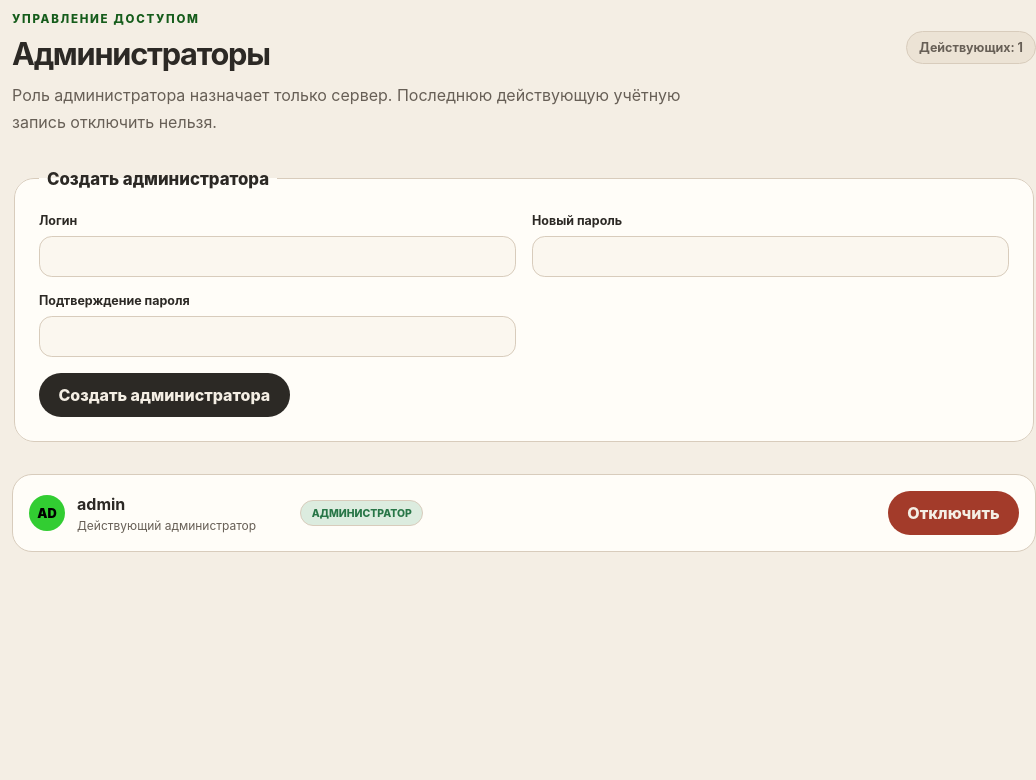
Test: administrator management › lists active administrators and creates one without client-owned roles
Expected: the heading "Администраторы" is shown, [12,38,270,70]
Expected: the text "Действующих: 1" is shown, [906,31,1035,64]
In the field labelled "Логин": (278, 256) [39,236,516,277], type "second-admin"
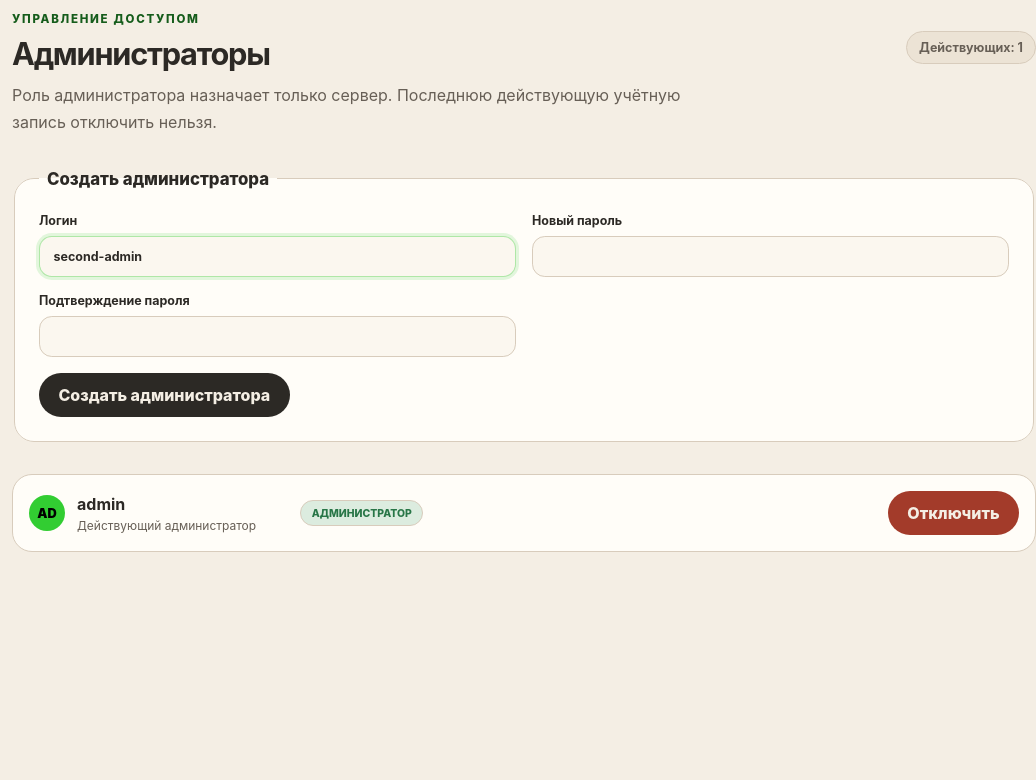
In the password field labelled "Новый пароль": (770, 256) [532,236,1009,277], type "safe-admin-password"
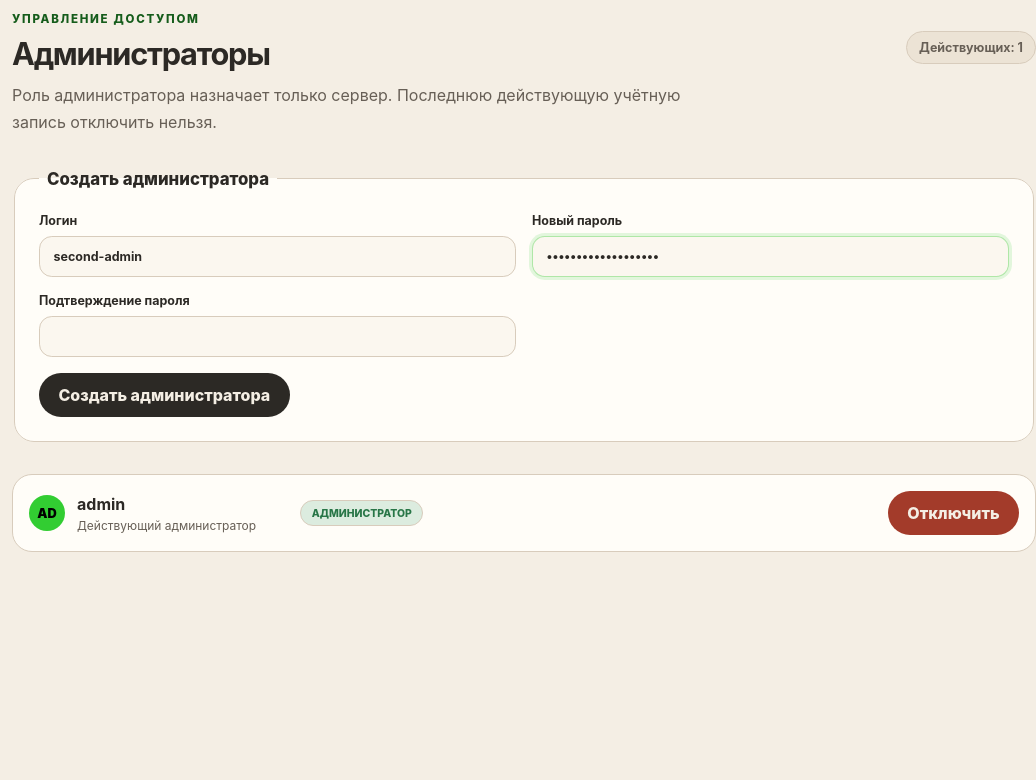
In the password field labelled "Подтверждение пароля": (278, 336) [39,316,516,357], type "safe-admin-password"
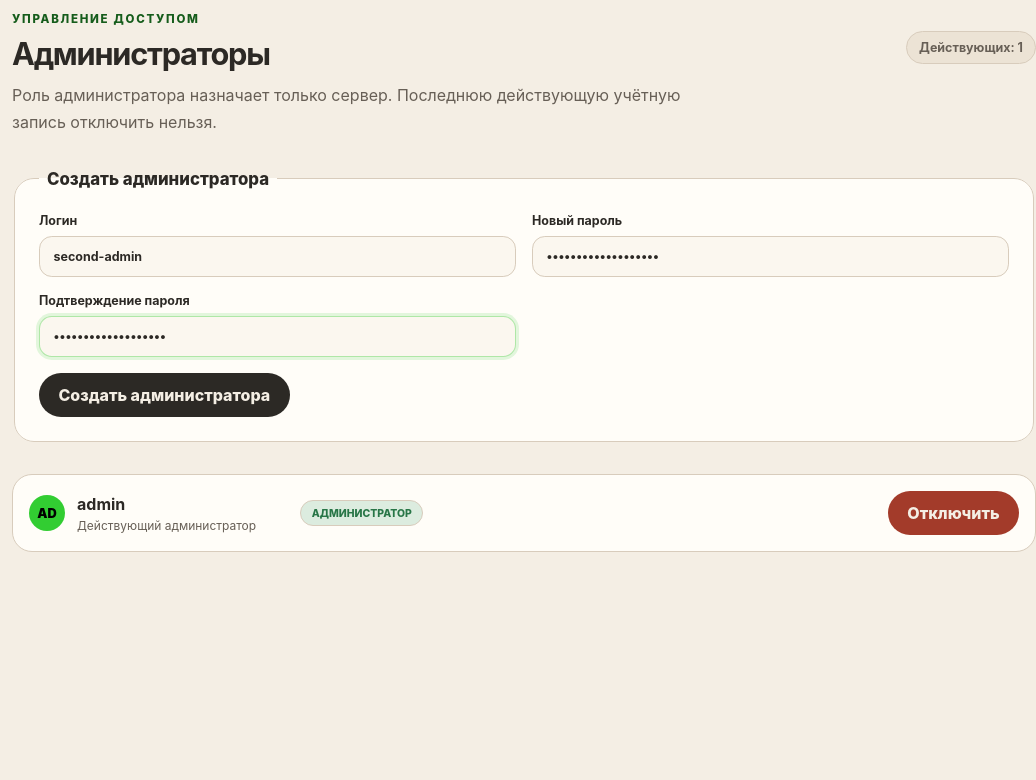
Click the button "Создать администратора": click(164, 395) [39,373,290,417]
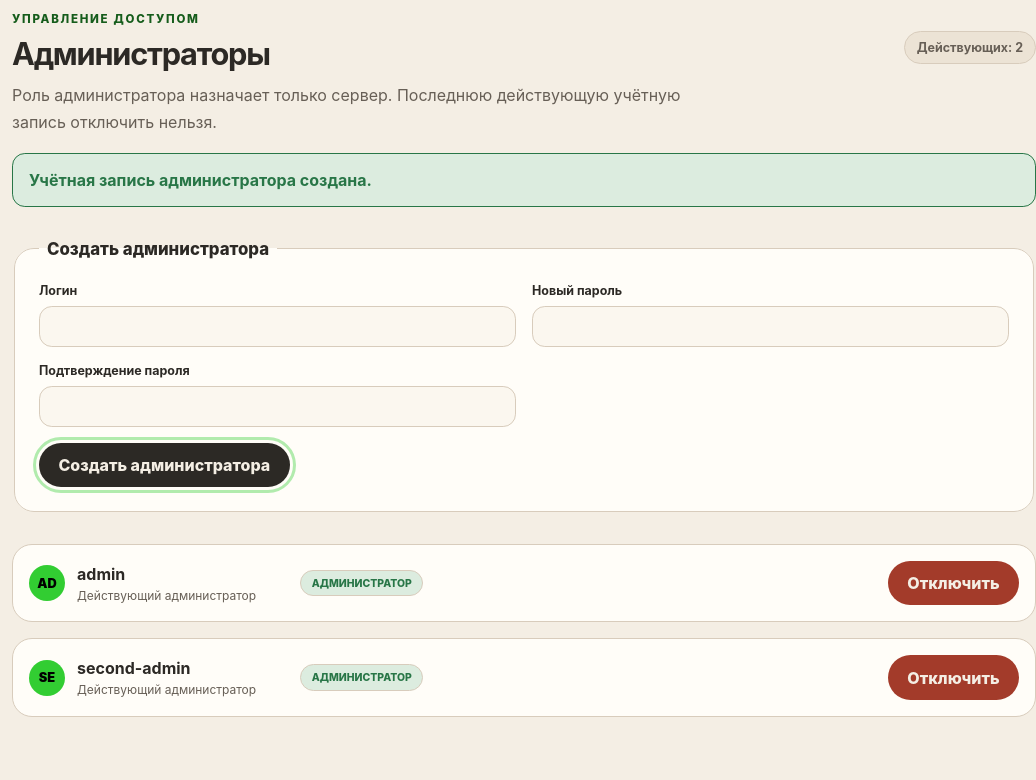
Now the text "Учётная запись администратора создана." is shown, box [12,153,1035,207]
